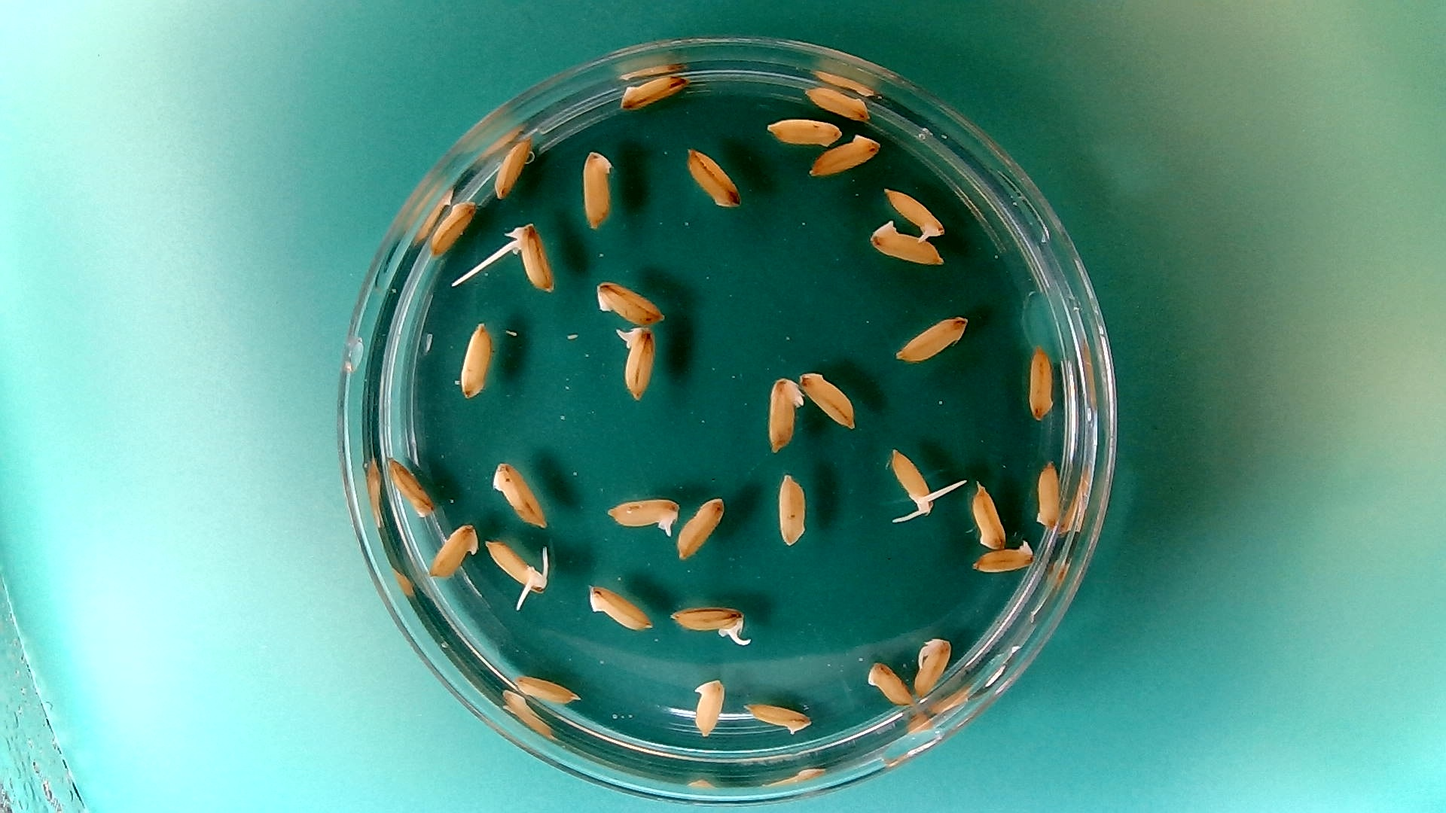no: (489, 456, 550, 530), (892, 311, 971, 364), (796, 367, 859, 431), (682, 144, 742, 209), (866, 218, 947, 266), (673, 491, 727, 561), (590, 276, 667, 325), (807, 131, 883, 178), (585, 581, 654, 632), (764, 373, 806, 453), (385, 452, 435, 519), (492, 129, 538, 201), (426, 519, 480, 580), (427, 195, 477, 258), (455, 318, 493, 400), (580, 145, 616, 231), (615, 71, 689, 111), (967, 479, 1008, 551), (740, 698, 814, 735), (764, 114, 844, 148), (1025, 340, 1057, 421), (776, 470, 807, 553), (803, 84, 872, 121), (970, 536, 1036, 574), (863, 659, 914, 708), (688, 674, 727, 738), (511, 670, 581, 705), (1032, 456, 1062, 531)
yes: (482, 534, 551, 601), (505, 219, 557, 298), (667, 601, 749, 651), (886, 444, 938, 521), (611, 321, 657, 403), (882, 184, 947, 239), (603, 492, 682, 536), (911, 633, 953, 698)
